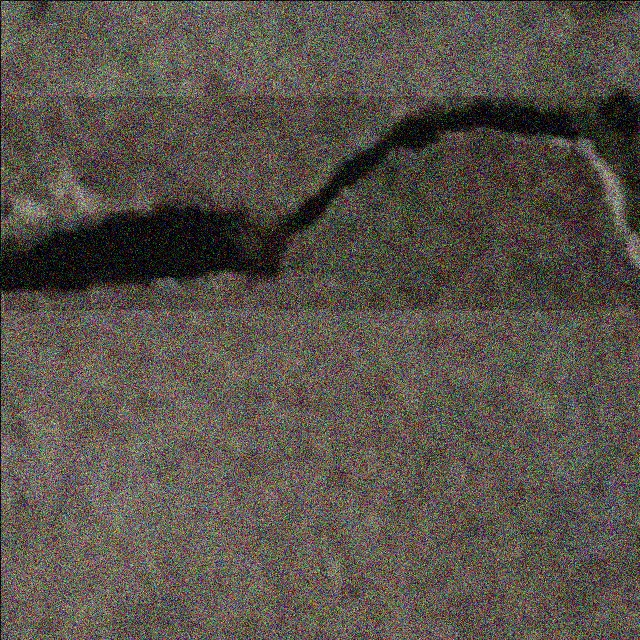SurfaceCrack: (0, 88, 618, 318)
